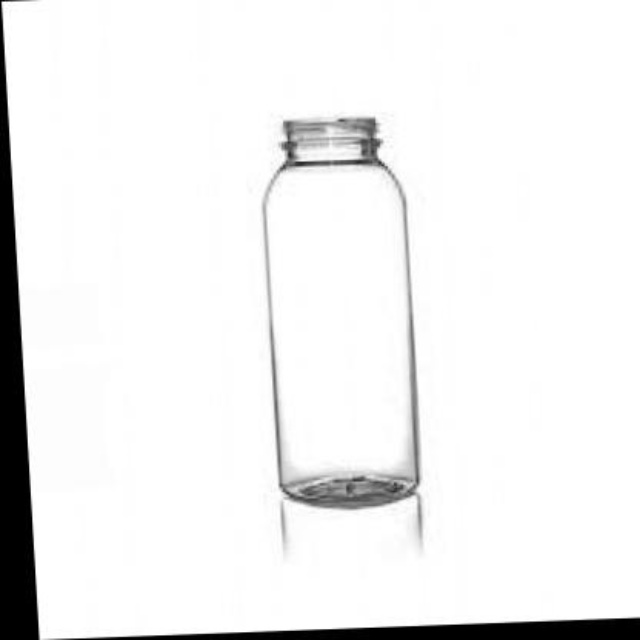trash: (263, 117, 417, 506)
